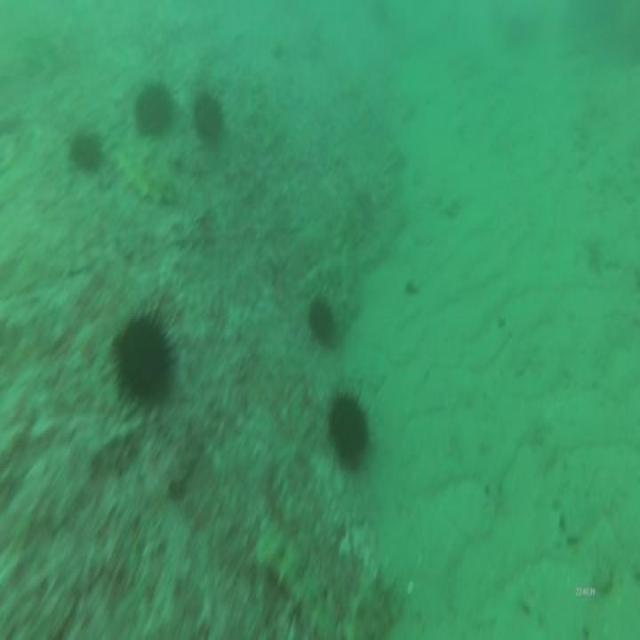echinus: (107, 298, 177, 412), (327, 384, 371, 479), (131, 73, 177, 150), (188, 87, 226, 153), (66, 126, 106, 177), (306, 289, 338, 346)
holothurian: (255, 520, 399, 640), (110, 137, 182, 212)
